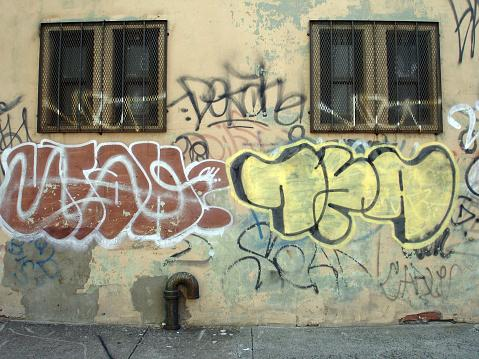graffiti: (0, 140, 232, 247), (230, 143, 458, 245), (184, 72, 319, 137), (231, 222, 353, 292), (368, 253, 452, 299), (456, 99, 479, 200), (448, 0, 479, 60), (0, 94, 28, 154)
